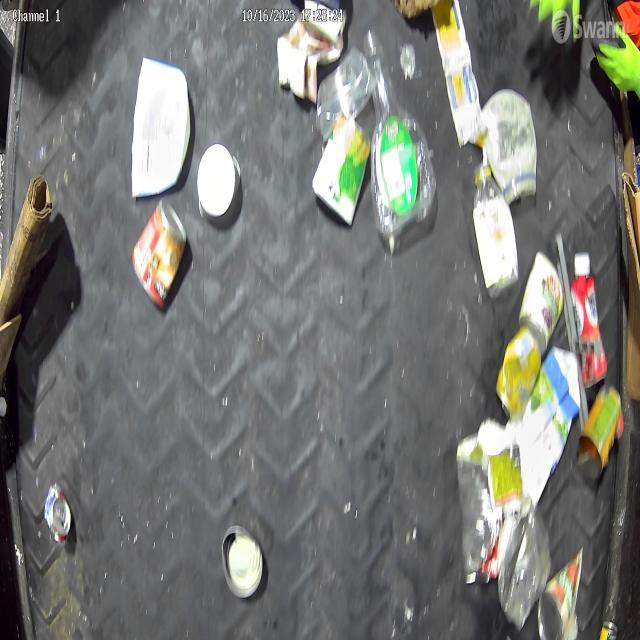can: (132, 186, 190, 318), (308, 113, 372, 232), (575, 390, 624, 486), (492, 329, 544, 418), (213, 522, 272, 600), (516, 249, 561, 347)
